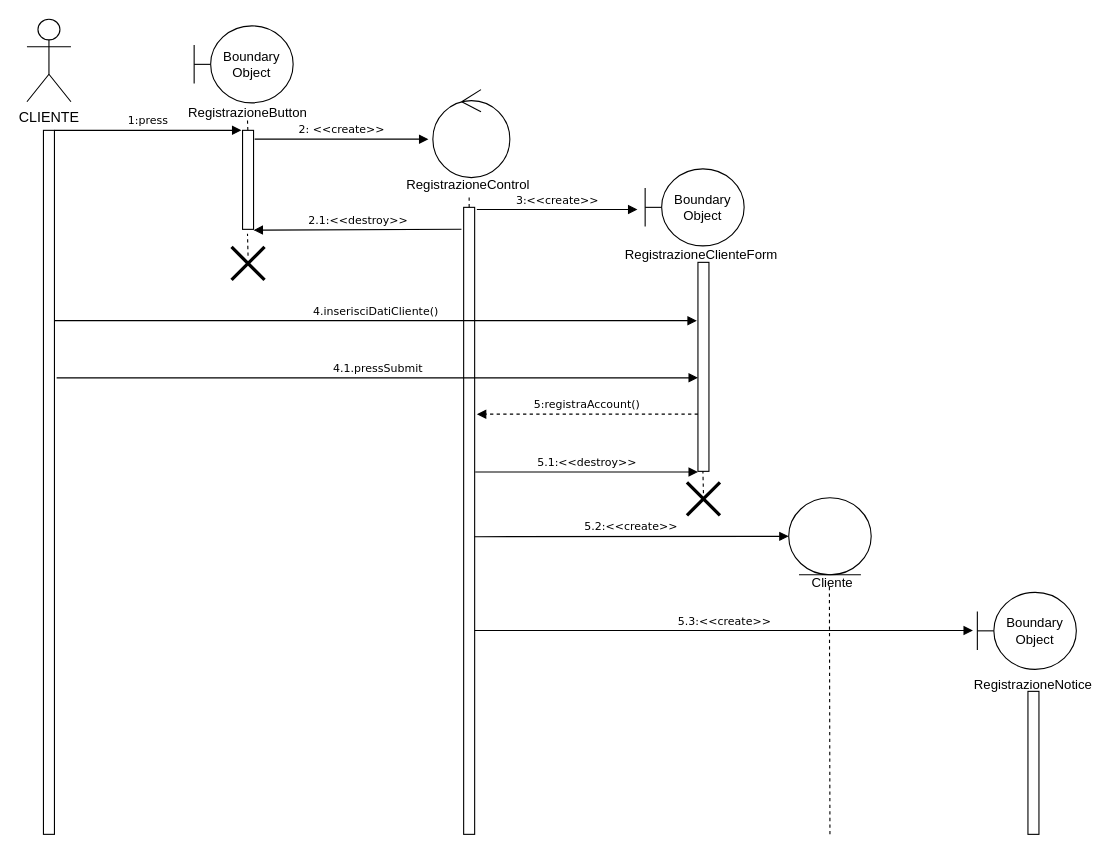
This 1119x855 diagram has some shape labels left out. The box of each missing label's shape, as (x1, y1, x2, y2) in pixels:
Control Object: (432, 89, 510, 178)
Entity Object: (788, 497, 871, 575)
